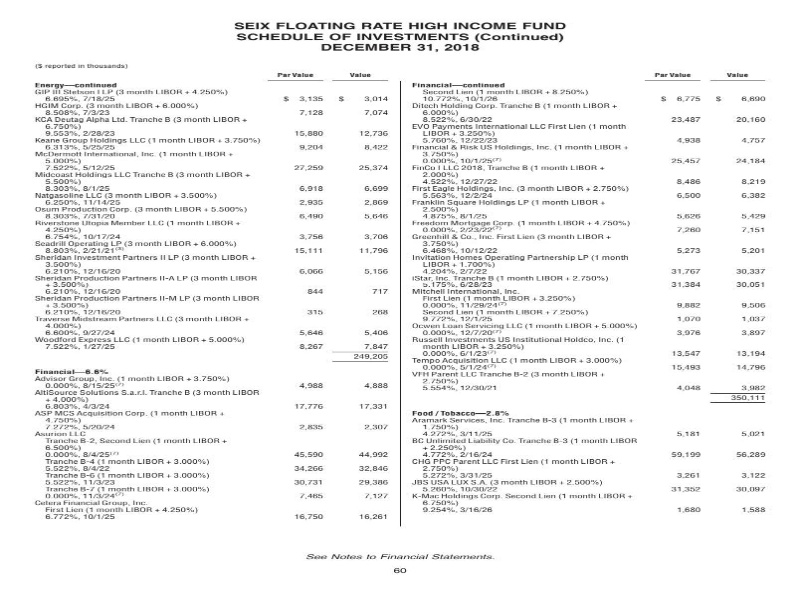table: (15, 55, 408, 538), (391, 59, 786, 533)
